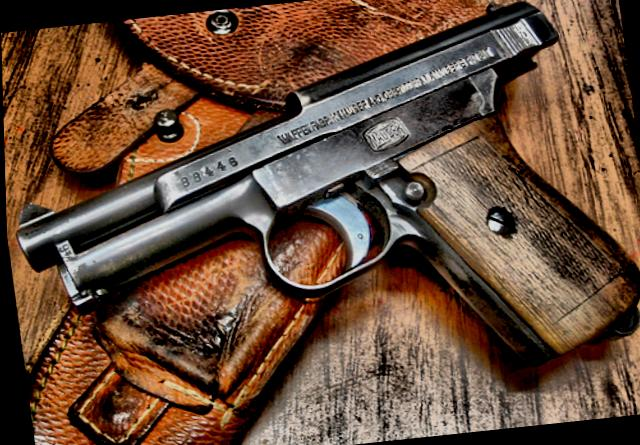pistol: (0, 0, 640, 419)
